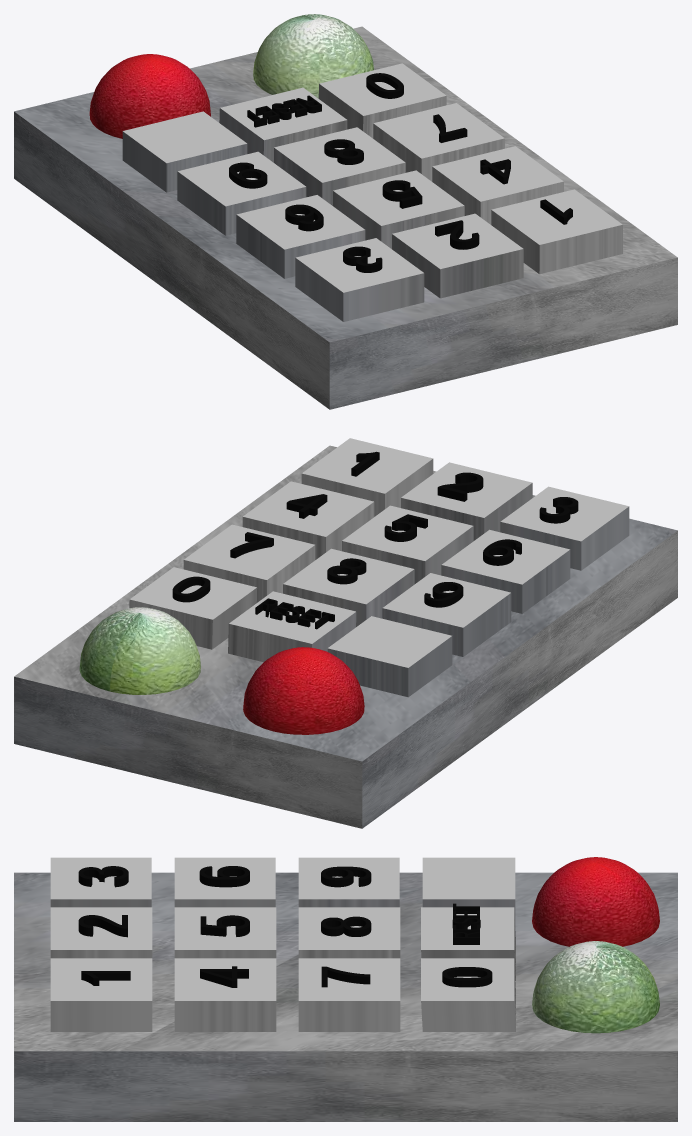
File: codelock.fbx
3 renders of one model, top to bottom at view 1: azimuth 30°, elevation 25°; view 2: azimuth 150°, elevation 25°; view 3: azimuth 270°, elevation 25°, orthographic. The views are drawn at different scales.
Parts seen in each view (by area): view 1: Box002; view 2: Box002; view 3: Box002.
Part boxes in pixels (x1=…): Box002: x1=14, y1=14, x2=677, y2=409; Box002: x1=14, y1=438, x2=677, y2=828; Box002: x1=14, y1=857, x2=677, y2=1121.
Bounding box in the file's own units: 138 × 216 × 46.8.
